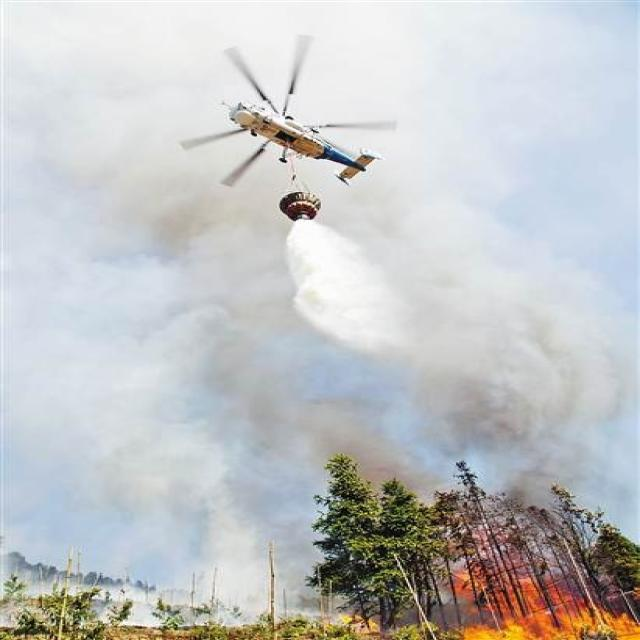Fire: (444, 567, 640, 640)
Smoke: (1, 1, 637, 628)
